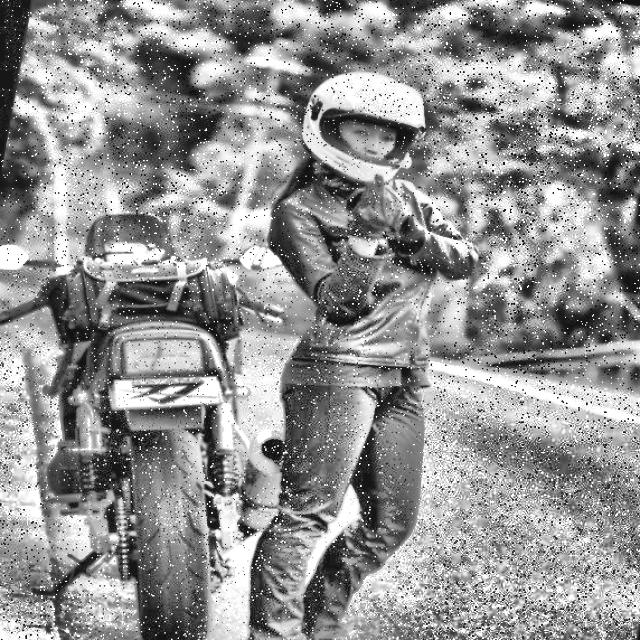Helmet: (286, 58, 442, 203)
